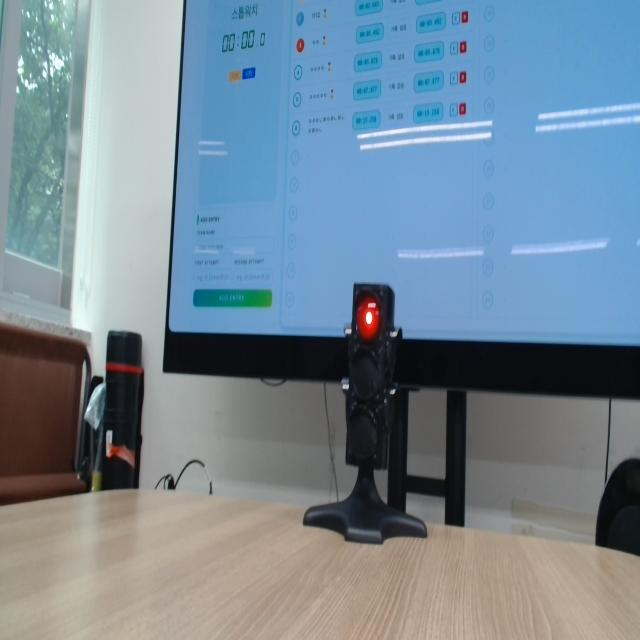red_light: (356, 296, 379, 341)
